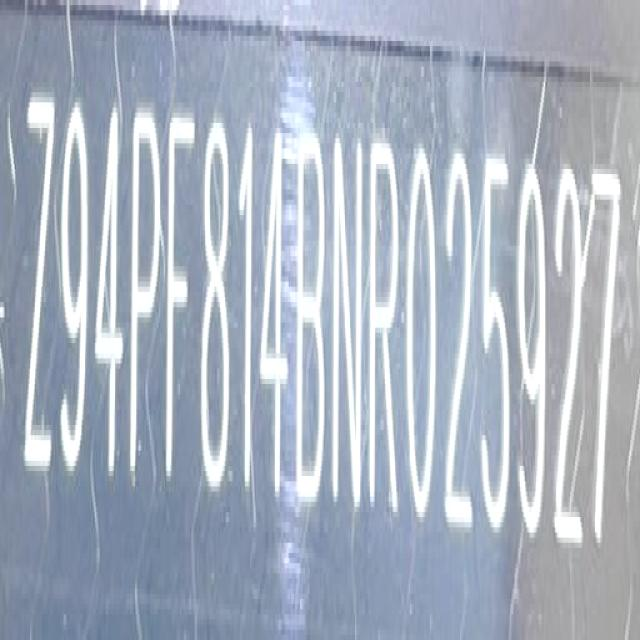0: (406, 145, 441, 534)
1: (238, 116, 256, 504)
2: (555, 159, 592, 559), (444, 146, 478, 542)
4: (96, 96, 126, 493), (258, 124, 289, 507)
5: (480, 149, 511, 542)
7: (594, 160, 624, 552)
8: (200, 112, 233, 508)
9: (59, 94, 91, 488), (516, 161, 548, 548)
B: (294, 130, 329, 514)
F: (165, 110, 196, 502)
N: (332, 136, 367, 518)
P: (131, 100, 165, 502)
R: (368, 139, 403, 524)
Z: (22, 94, 56, 493)
